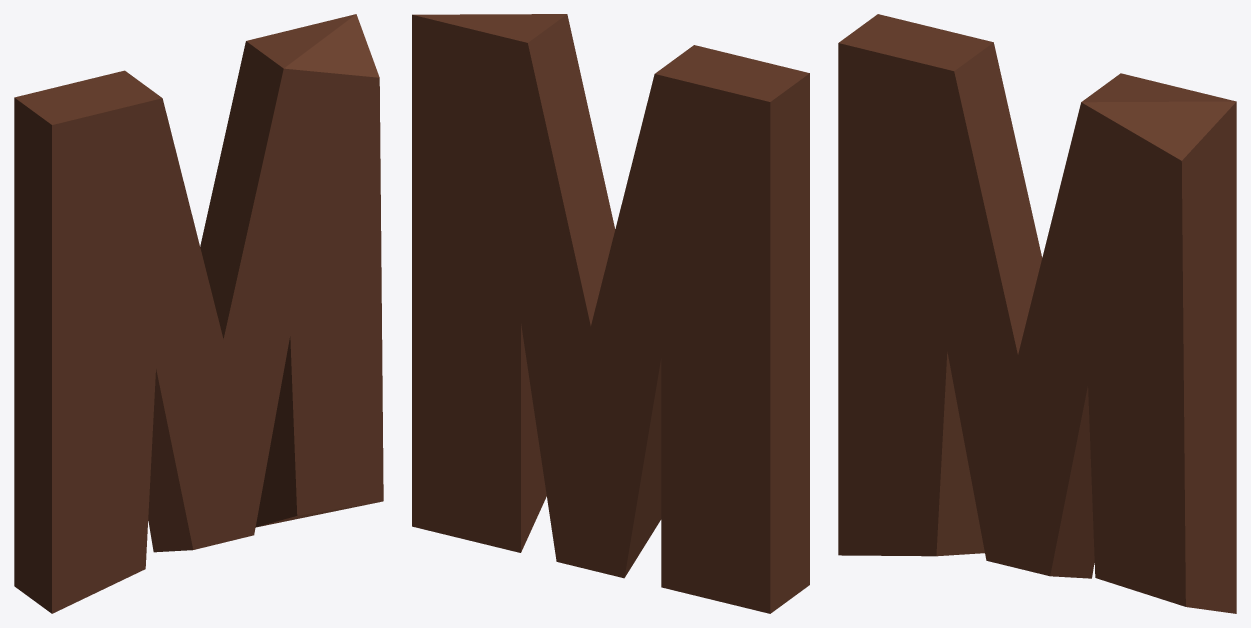
File: SM_Sign_3dText_Letter_M.obj
The picture shows the model from 3 angles, left to right: view 1: azimuth 30°, elevation 25°; view 2: azimuth 150°, elevation 25°; view 3: azimuth 330°, elevation 25°; orthographic projection. The views are drawn at different scales.
Visible parts, largest first — view 1: SM_Sign_3dText_Letter_M_0; view 2: SM_Sign_3dText_Letter_M_0; view 3: SM_Sign_3dText_Letter_M_0.
Part boxes in pixels (x1=…): SM_Sign_3dText_Letter_M_0: x1=14, y1=14, x2=383, y2=613; SM_Sign_3dText_Letter_M_0: x1=412, y1=14, x2=809, y2=613; SM_Sign_3dText_Letter_M_0: x1=838, y1=14, x2=1236, y2=613.
Bounding box in the file's own units: 0.5229 × 0.7139 × 0.1.
1 material, 1 textured.
